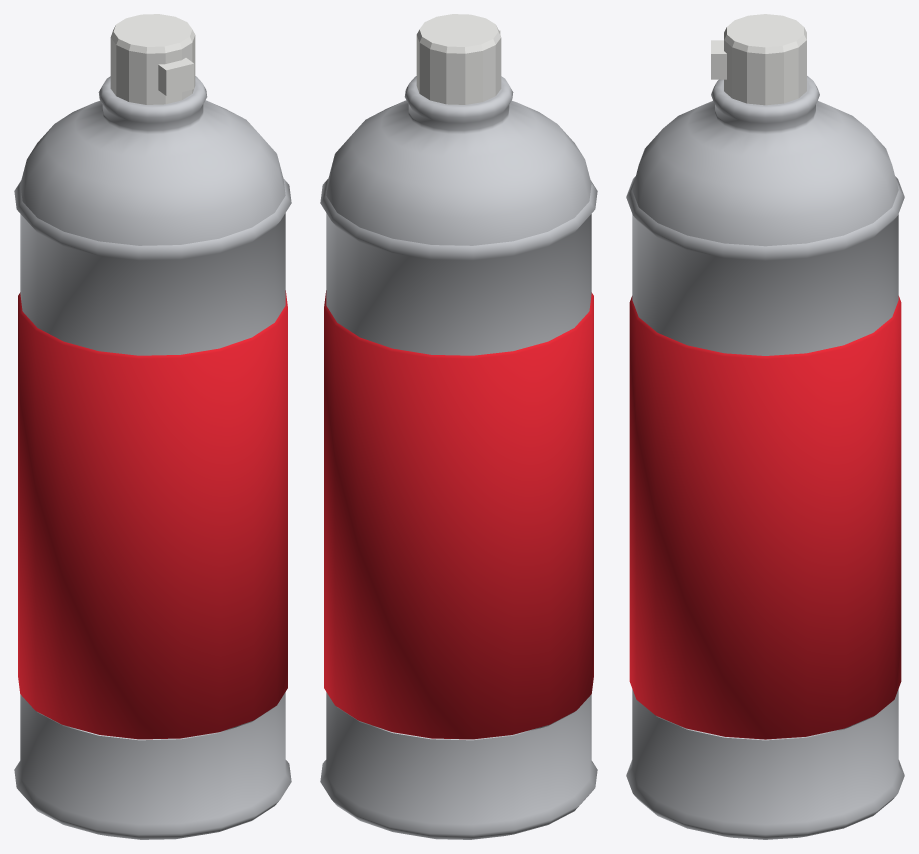
The model's file is spray_can.fbx.
The picture shows the model from 3 angles, left to right: view 1: azimuth 30°, elevation 25°; view 2: azimuth 150°, elevation 25°; view 3: azimuth 270°, elevation 25°; orthographic projection.
Parts seen in each view (by area): view 1: Label, Body, Nozzle; view 2: Label, Body, Nozzle; view 3: Label, Body, Nozzle.
Part boxes in pixels (x1,y1,x2,y2): Label: [18, 290, 287, 739]; Body: [14, 76, 291, 839]; Nozzle: [110, 14, 195, 104]; Label: [324, 290, 593, 739]; Body: [320, 76, 597, 839]; Nozzle: [416, 14, 501, 104]; Label: [629, 296, 901, 739]; Body: [626, 76, 904, 839]; Nozzle: [711, 14, 806, 105].
Size of the model in its own units: 0.069 by 0.2085 by 0.069.
